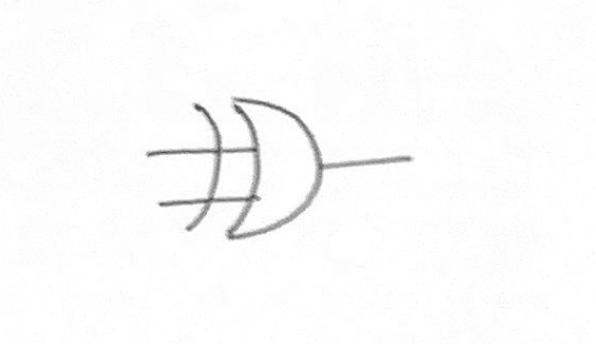XOR: (181, 83, 333, 254)
